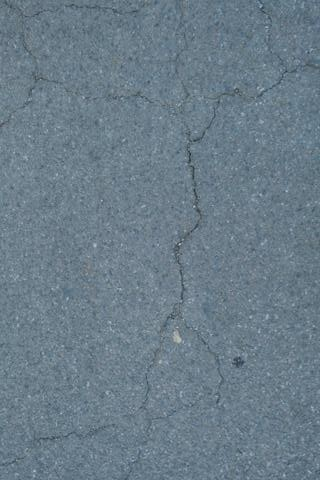A: (136, 21, 320, 419), (4, 1, 154, 127), (1, 424, 158, 480)
